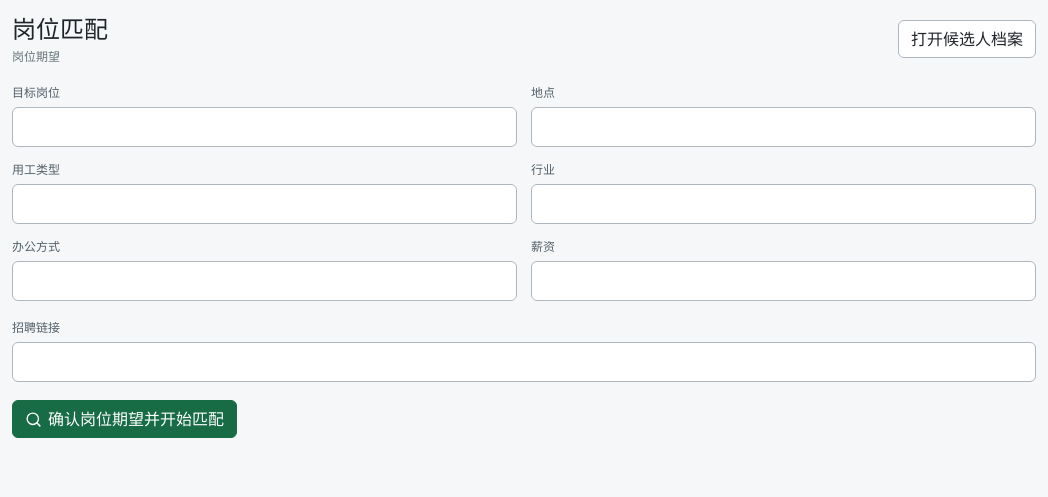
JobMatchStartPanel › requires one non-empty expectation and focuses the first field
The width and height of the screenshot is (1048, 497).
Type "https://acme.mokahr.com/jobs" into the field labelled "招聘链接" at (524, 362), box [12,342,1036,382]
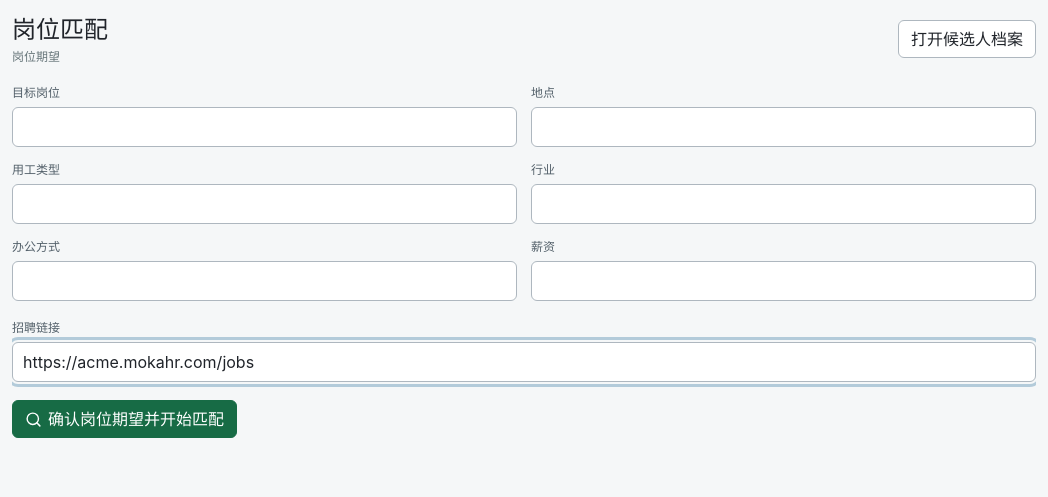
Click the button "确认岗位期望并开始匹配" at (124, 419), box [12,400,237,438]
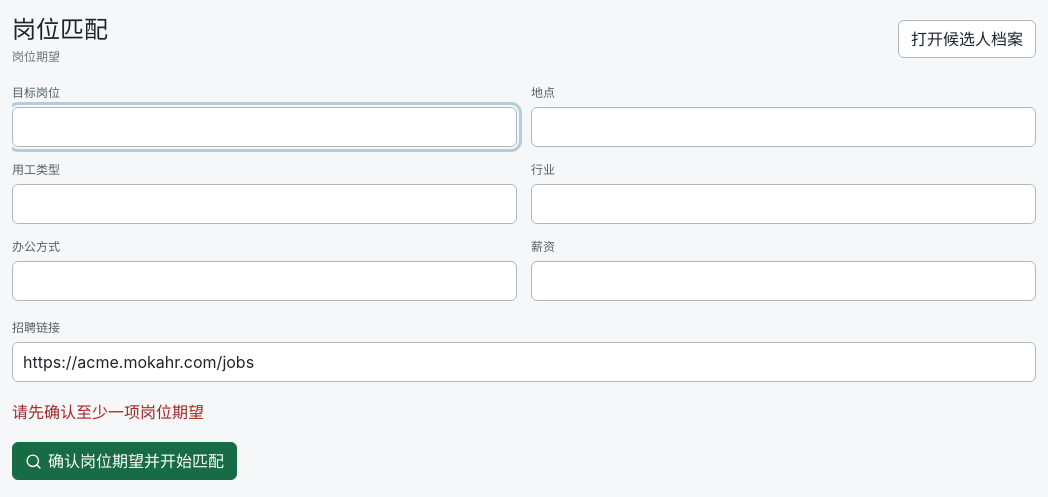
Result: the message reads "请先确认至少一项岗位期望" at [12,402,204,422]
